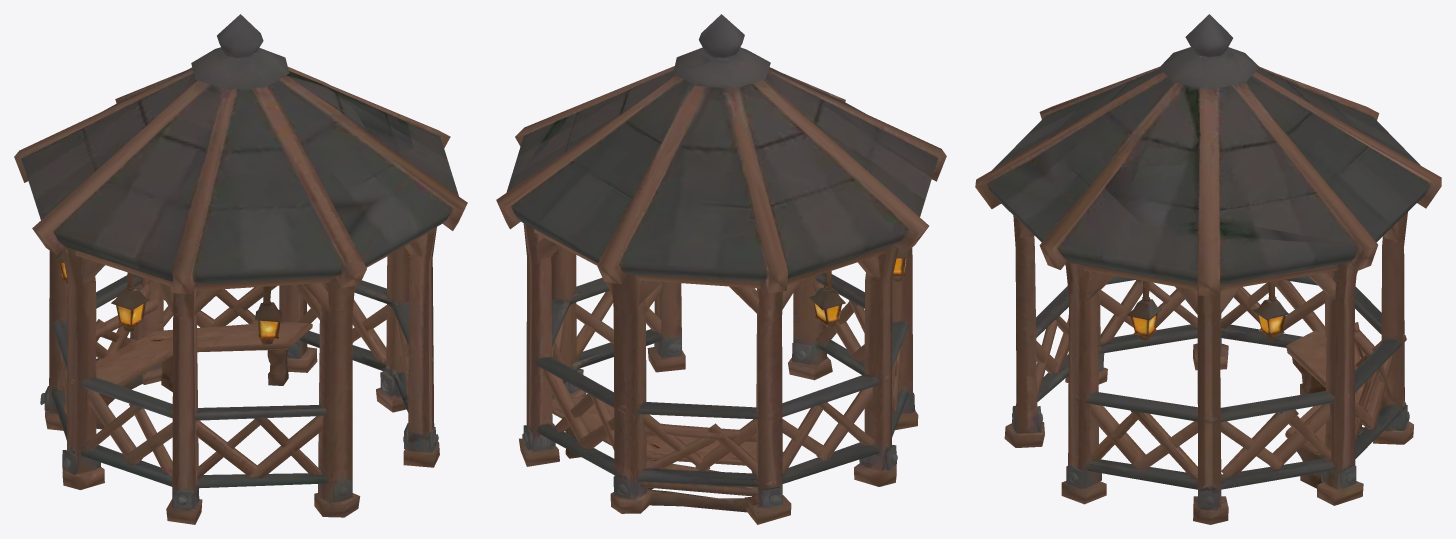
The model's file is besedka.glb.
3 renders of one model, left to right at view 1: azimuth 30°, elevation 25°; view 2: azimuth 150°, elevation 25°; view 3: azimuth 270°, elevation 25°, orthographic.
Bounding box in the file's own units: 0.9941 × 0.998 × 0.9922.
1 material, 1 textured.
